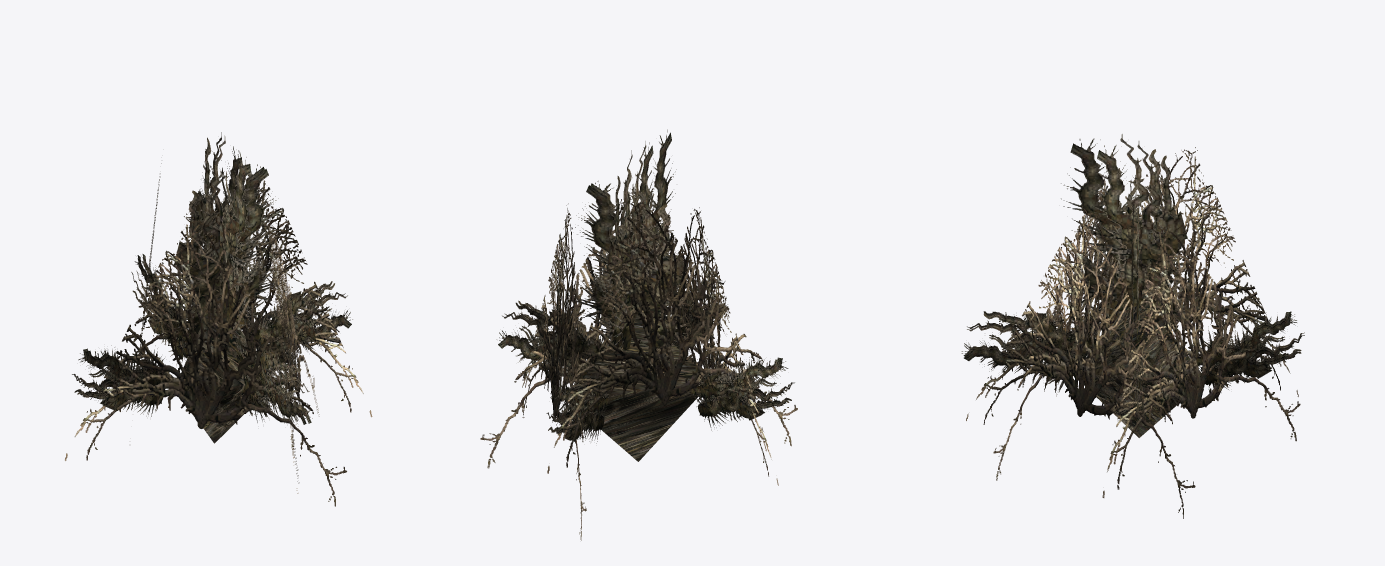
The model's file is poi_all_lair_brambles_large_l2.fbx.
The picture shows the model from 3 angles, left to right: view 1: azimuth 30°, elevation 25°; view 2: azimuth 150°, elevation 25°; view 3: azimuth 270°, elevation 25°; orthographic projection. The views are drawn at different scales.
Parts seen in each view (by area): view 1: mesh_node; view 2: mesh_node; view 3: mesh_node.
Boxes of the visible parts, x1,y1,x2,y2 form: mesh_node: [65, 132, 372, 506]; mesh_node: [480, 129, 797, 540]; mesh_node: [961, 134, 1304, 518].
Bounding box in the file's own units: 5.77 × 6.55 × 6.21.
